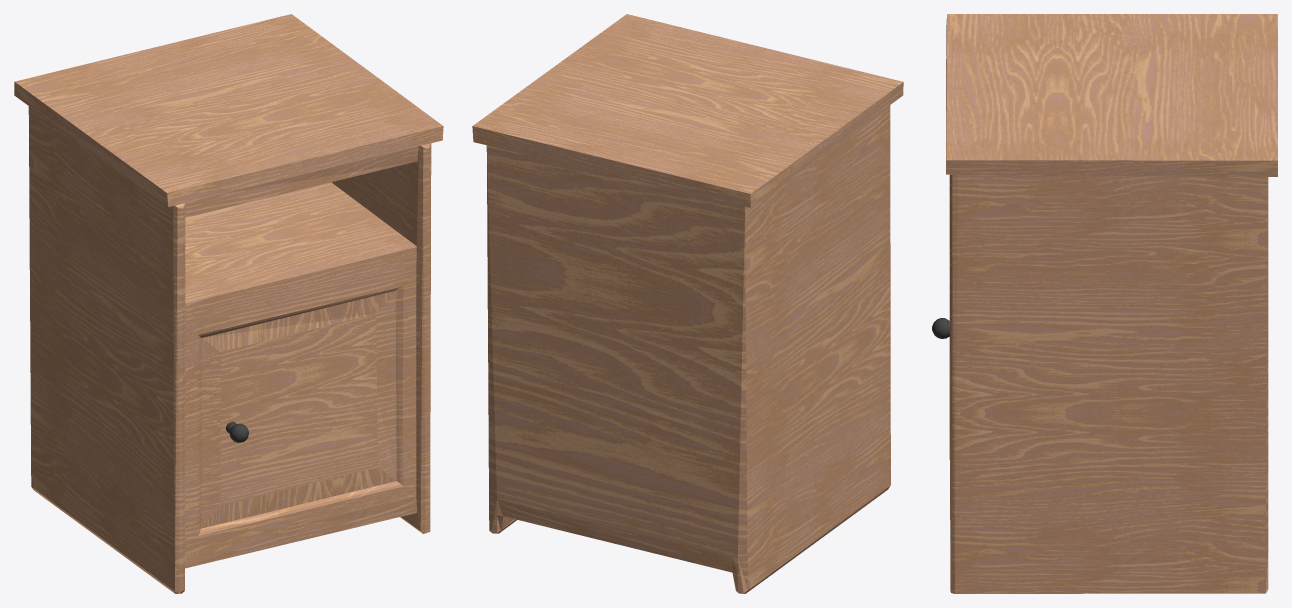
File: bedside_table.dae
3 views of the same model, side by side, from view 1: azimuth 30°, elevation 25°; view 2: azimuth 150°, elevation 25°; view 3: azimuth 270°, elevation 25° (orthographic). The views are drawn at different scales.
Visible parts, largest first — view 1: Table; view 2: Table; view 3: Table.
Boxes of the visible parts, box(x1,y1,x2,y2) form: Table: box(14, 14, 443, 593); Table: box(472, 14, 903, 593); Table: box(946, 14, 1277, 593).
Bounding box in the file's own units: 0.4198 × 0.418 × 0.5887.
